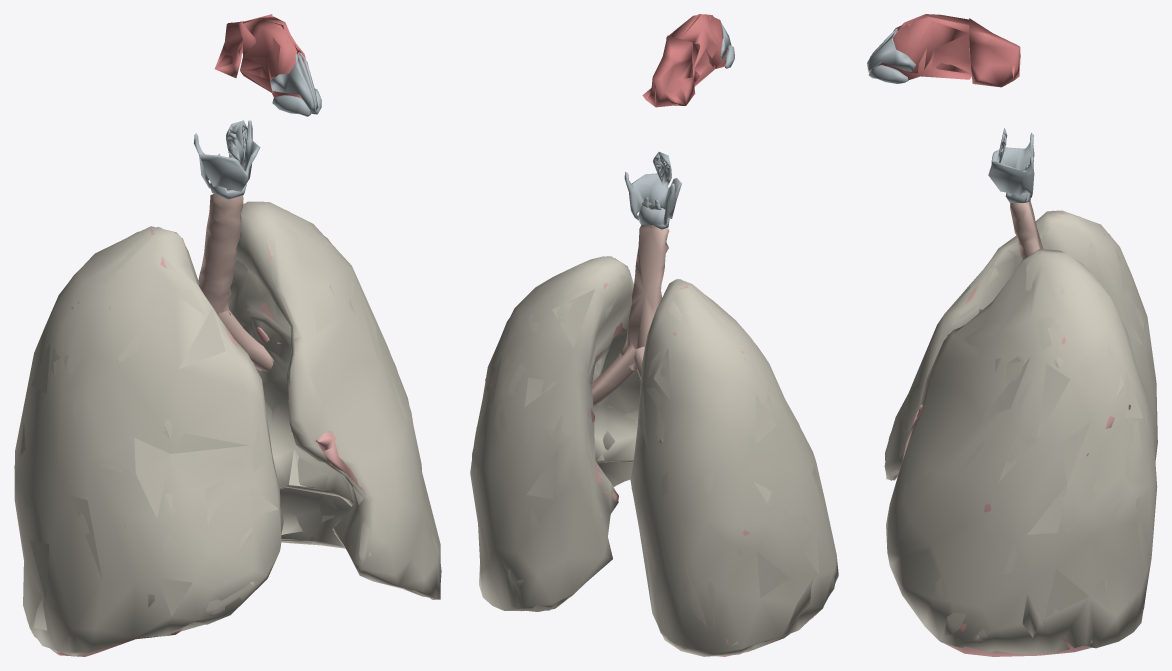
Rendered from adult_male.respiratory.LOD3.glb.
The picture shows the model from 3 angles, left to right: view 1: azimuth 30°, elevation 25°; view 2: azimuth 150°, elevation 25°; view 3: azimuth 270°, elevation 25°; orthographic projection. The views are drawn at different scales.
Visible parts, largest first — view 1: ADULT.MALE.RESPIRATORY.PLEURA, ADULT.MALE.RESPIRATORY.TRACHEA, ADULT.MALE.RESPIRATORY.MUCOSA_OF_NASAL_CAVITY, ADULT.MALE.RESPIRATORY.THYROID_CARTILAGE, ADULT.MALE.RESPIRATORY.NASOPHARYNX, ADULT.MALE.RESPIRATORY.LEFT_MAIN_BRONCHUS, ADULT.MALE.RESPIRATORY.SUPERIOR_LOBE_OF_LEFT_LUNG, ADULT.MALE.RESPIRATORY.LATERAL_PROCESS_OF_NASAL_SEPTAL_CARTI, ADULT.MALE.RESPIRATORY.EPIGLOTTIS; view 2: ADULT.MALE.RESPIRATORY.PLEURA, ADULT.MALE.RESPIRATORY.TRACHEA, ADULT.MALE.RESPIRATORY.NASOPHARYNX, ADULT.MALE.RESPIRATORY.MUCOSA_OF_NASAL_CAVITY, ADULT.MALE.RESPIRATORY.THYROID_CARTILAGE, ADULT.MALE.RESPIRATORY.LEFT_MAIN_BRONCHUS; view 3: ADULT.MALE.RESPIRATORY.PLEURA, ADULT.MALE.RESPIRATORY.MUCOSA_OF_NASAL_CAVITY, ADULT.MALE.RESPIRATORY.NASOPHARYNX, ADULT.MALE.RESPIRATORY.THYROID_CARTILAGE, ADULT.MALE.RESPIRATORY.TRACHEA, ADULT.MALE.RESPIRATORY.LATERAL_PROCESS_OF_NASAL_SEPTAL_CARTI, ADULT.MALE.RESPIRATORY.INFERIOR_LOBE_OF_LEFT_LUNG, ADULT.MALE.RESPIRATORY.MAJOR_ALAR_CARTILAGE.L.
Boxes of the visible parts, box(x1,y1,x2,y2) form: ADULT.MALE.RESPIRATORY.PLEURA: box(14, 201, 441, 656); ADULT.MALE.RESPIRATORY.TRACHEA: box(198, 188, 243, 315); ADULT.MALE.RESPIRATORY.MUCOSA_OF_NASAL_CAVITY: box(240, 16, 306, 98); ADULT.MALE.RESPIRATORY.THYROID_CARTILAGE: box(194, 120, 260, 191); ADULT.MALE.RESPIRATORY.NASOPHARYNX: box(214, 14, 272, 77); ADULT.MALE.RESPIRATORY.LEFT_MAIN_BRONCHUS: box(218, 310, 272, 370); ADULT.MALE.RESPIRATORY.SUPERIOR_LOBE_OF_LEFT_LUNG: box(247, 243, 365, 573); ADULT.MALE.RESPIRATORY.LATERAL_PROCESS_OF_NASAL_SEPTAL_CARTI: box(270, 54, 314, 112); ADULT.MALE.RESPIRATORY.EPIGLOTTIS: box(226, 120, 247, 167); ADULT.MALE.RESPIRATORY.PLEURA: box(470, 256, 838, 656); ADULT.MALE.RESPIRATORY.TRACHEA: box(619, 224, 669, 370); ADULT.MALE.RESPIRATORY.NASOPHARYNX: box(642, 35, 695, 107); ADULT.MALE.RESPIRATORY.MUCOSA_OF_NASAL_CAVITY: box(666, 14, 727, 86); ADULT.MALE.RESPIRATORY.THYROID_CARTILAGE: box(624, 172, 681, 226); ADULT.MALE.RESPIRATORY.LEFT_MAIN_BRONCHUS: box(591, 343, 635, 405); ADULT.MALE.RESPIRATORY.PLEURA: box(884, 210, 1157, 654); ADULT.MALE.RESPIRATORY.MUCOSA_OF_NASAL_CAVITY: box(878, 14, 971, 79); ADULT.MALE.RESPIRATORY.NASOPHARYNX: box(969, 18, 1020, 87); ADULT.MALE.RESPIRATORY.THYROID_CARTILAGE: box(988, 133, 1034, 201); ADULT.MALE.RESPIRATORY.TRACHEA: box(1010, 200, 1043, 259); ADULT.MALE.RESPIRATORY.LATERAL_PROCESS_OF_NASAL_SEPTAL_CARTI: box(867, 30, 915, 72); ADULT.MALE.RESPIRATORY.INFERIOR_LOBE_OF_LEFT_LUNG: box(945, 623, 1091, 656); ADULT.MALE.RESPIRATORY.MAJOR_ALAR_CARTILAGE.L: box(868, 65, 908, 83).
Bounding box in the file's own units: 0.2639 × 0.4308 × 0.2005.
